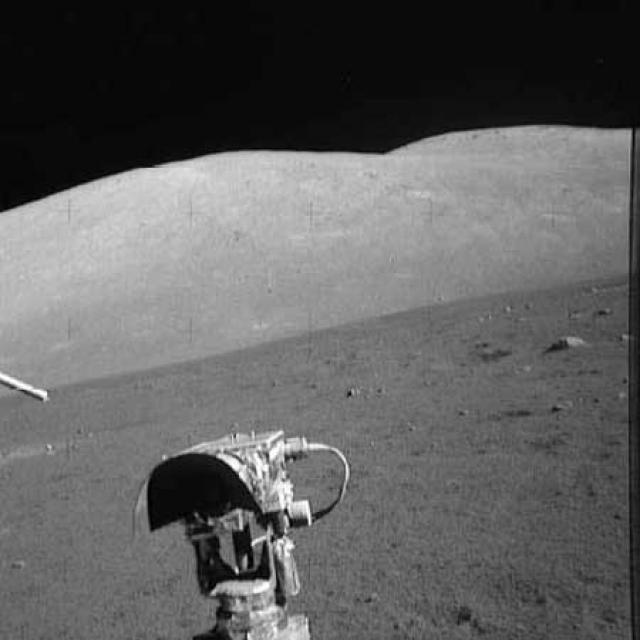artifact: (133, 422, 363, 639), (0, 370, 62, 408)
rock: (541, 328, 593, 360)
